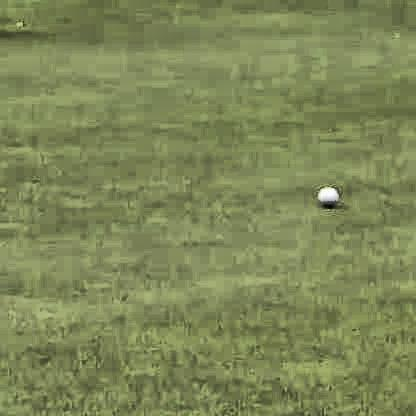golfball: (314, 182, 337, 205)
